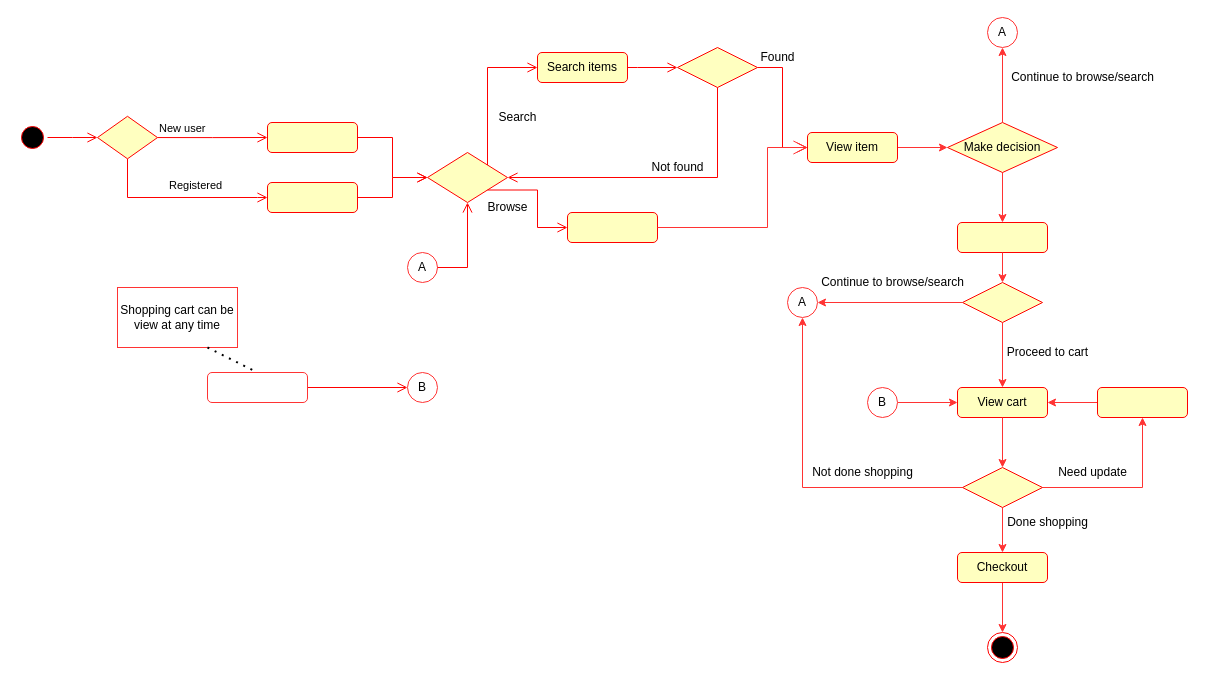
This 1205x680 diagram has some shape labels left out. The centre of each missing label's shape, as x and y in pixels:
"Add to cart" goes at (x=1002, y=237).
"Browse items" goes at (x=612, y=227).
"Check cart" goes at (x=257, y=387).
"Log in" goes at (x=312, y=197).
"Register" goes at (x=312, y=137).
"Update cart" goes at (x=1142, y=402).
